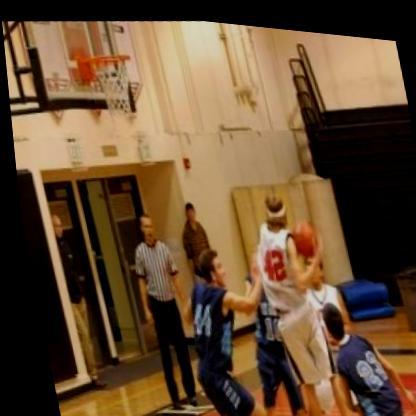basketball: (284, 213, 316, 252)
